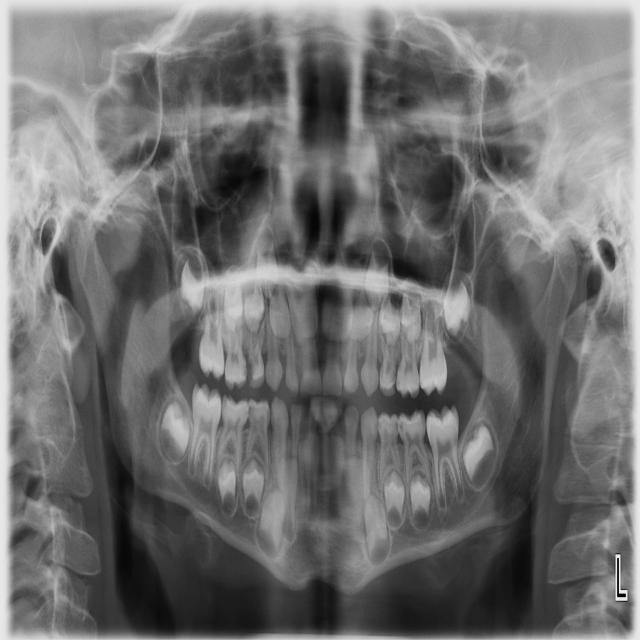mandibula: (76, 222, 578, 594)
